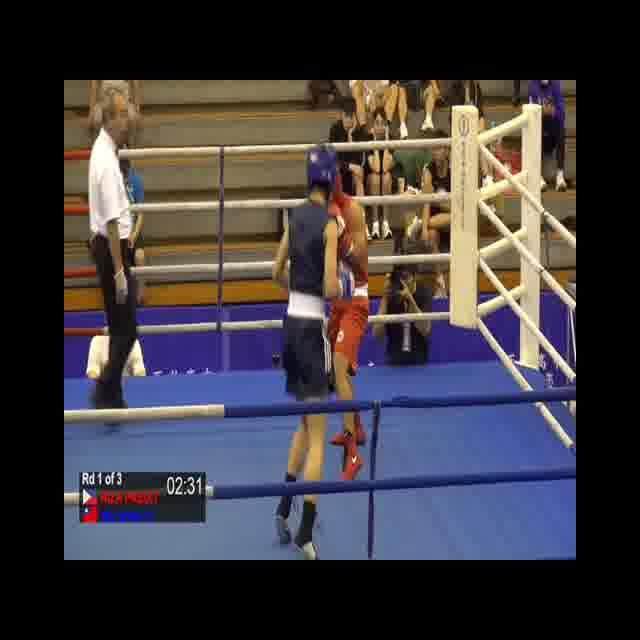blue-player: (268, 140, 353, 561)
red-player: (310, 164, 373, 489)
referee: (85, 87, 140, 430)
